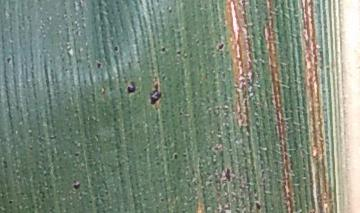tarspot: (148, 82, 162, 106), (222, 166, 233, 182), (126, 80, 136, 95), (253, 201, 263, 211), (2, 159, 9, 171), (72, 182, 81, 191), (112, 44, 120, 53), (95, 61, 103, 70), (159, 45, 167, 54), (72, 151, 81, 159), (4, 56, 12, 64), (217, 43, 225, 51), (173, 152, 180, 161), (111, 116, 118, 124), (159, 196, 166, 204), (141, 146, 149, 153), (7, 199, 13, 205), (175, 49, 181, 55), (167, 8, 173, 14), (155, 1, 160, 5)
